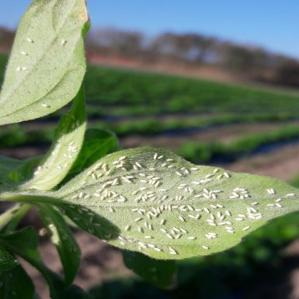Silverleaf whitefly: (70, 142, 299, 260), (57, 34, 71, 49), (15, 65, 28, 74), (25, 36, 35, 45), (19, 50, 29, 58), (42, 102, 49, 111)
